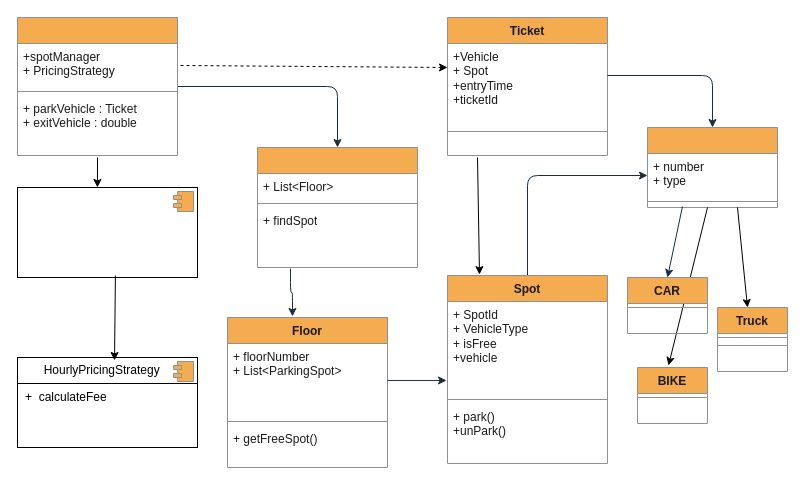
Some shapes in this 805 by 488 pixel diagram are drawn without their labels. Here are the shapes that lost their labels. From the top down, the box of each, then its label:
(16, 16, 178, 156): ParkingLot
(646, 126, 778, 208): Abstract<<Vehicle>>
(256, 146, 418, 268): SpotManager
(16, 186, 198, 278): PricingStrategy<Interface> + calculateFee
